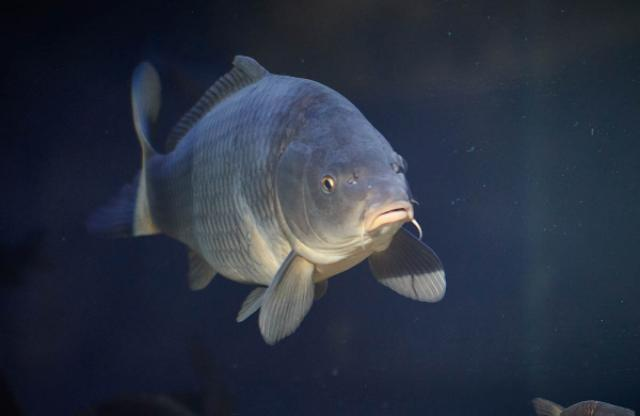Mulut: (356, 191, 429, 251)
Sirip Anal: (178, 242, 226, 298)
Sirip Dada: (365, 223, 453, 312), (252, 246, 322, 348)
Sirip Ekor: (78, 51, 168, 263)
Sirip Perut: (234, 275, 272, 330)
Sirip Punggung: (152, 48, 272, 156)
